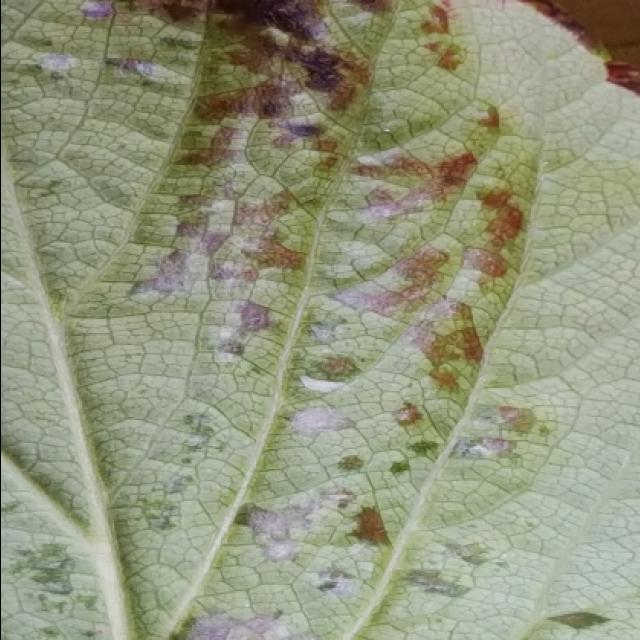Angular Leafspot: (2, 2, 639, 640)
